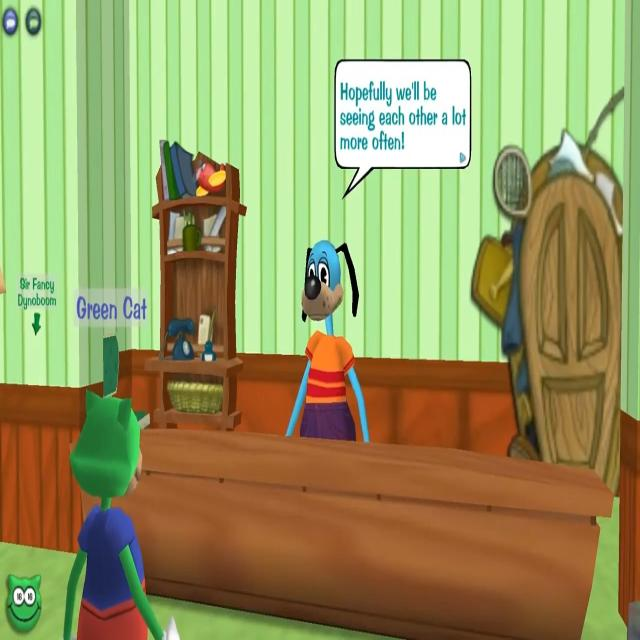npc: (287, 233, 369, 448)
